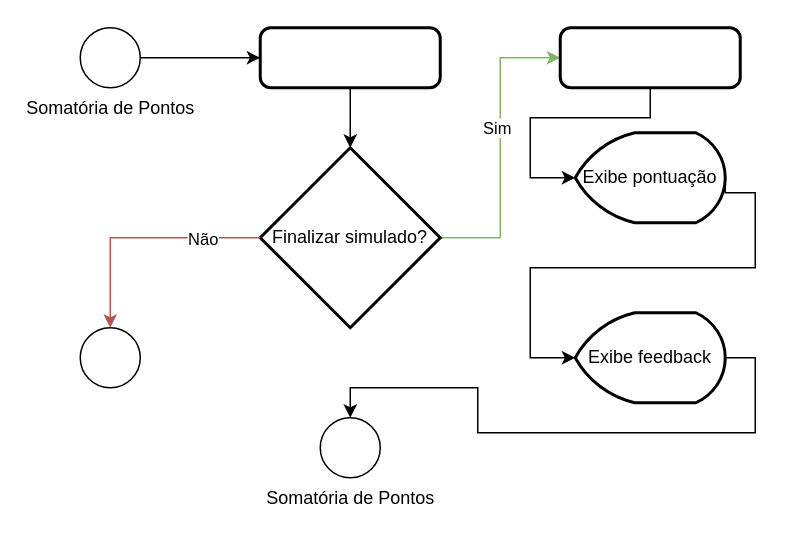
This 794x534 diagram has some shape labels left out. The centre of each missing label's shape, as x and y in pixels:
"Motor de Jogo (X)" goes at (x=109, y=357).
"Processa os resultados" goes at (x=649, y=57).
"Soma os pontos" goes at (x=349, y=57).
